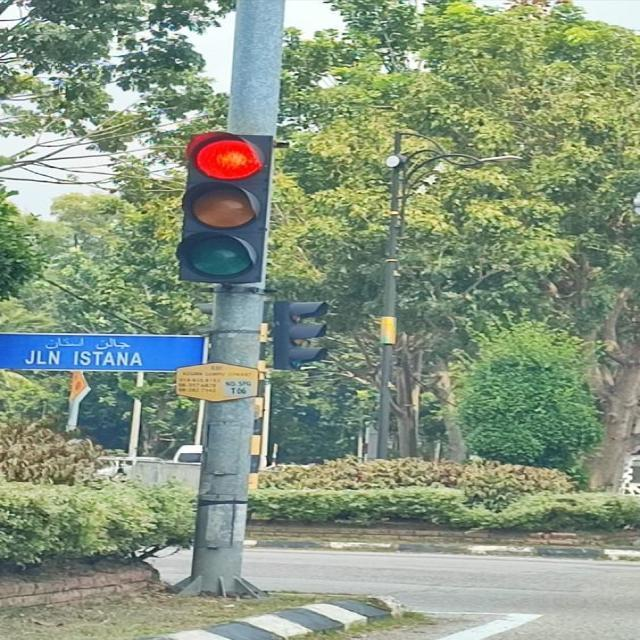red_light: (176, 130, 272, 283)
